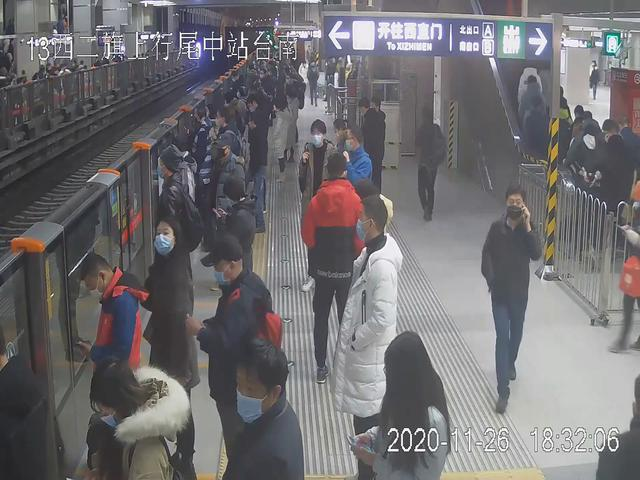person: (195, 235, 276, 480), (136, 208, 201, 480), (343, 194, 403, 480), (349, 331, 463, 480), (73, 247, 143, 480), (83, 353, 190, 480), (479, 183, 533, 412), (226, 332, 300, 480), (152, 140, 201, 317), (294, 116, 335, 288), (216, 175, 256, 316), (245, 93, 274, 236), (412, 102, 447, 215), (357, 93, 386, 203)
